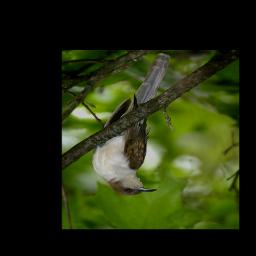Cuckoo: (90, 53, 171, 196)
